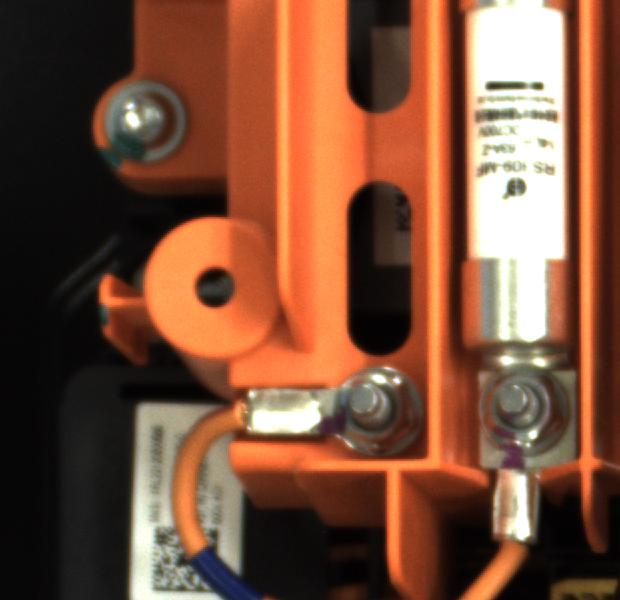screw_m: (93, 77, 197, 168)
screw_s: (469, 363, 577, 456), (327, 362, 417, 446)
